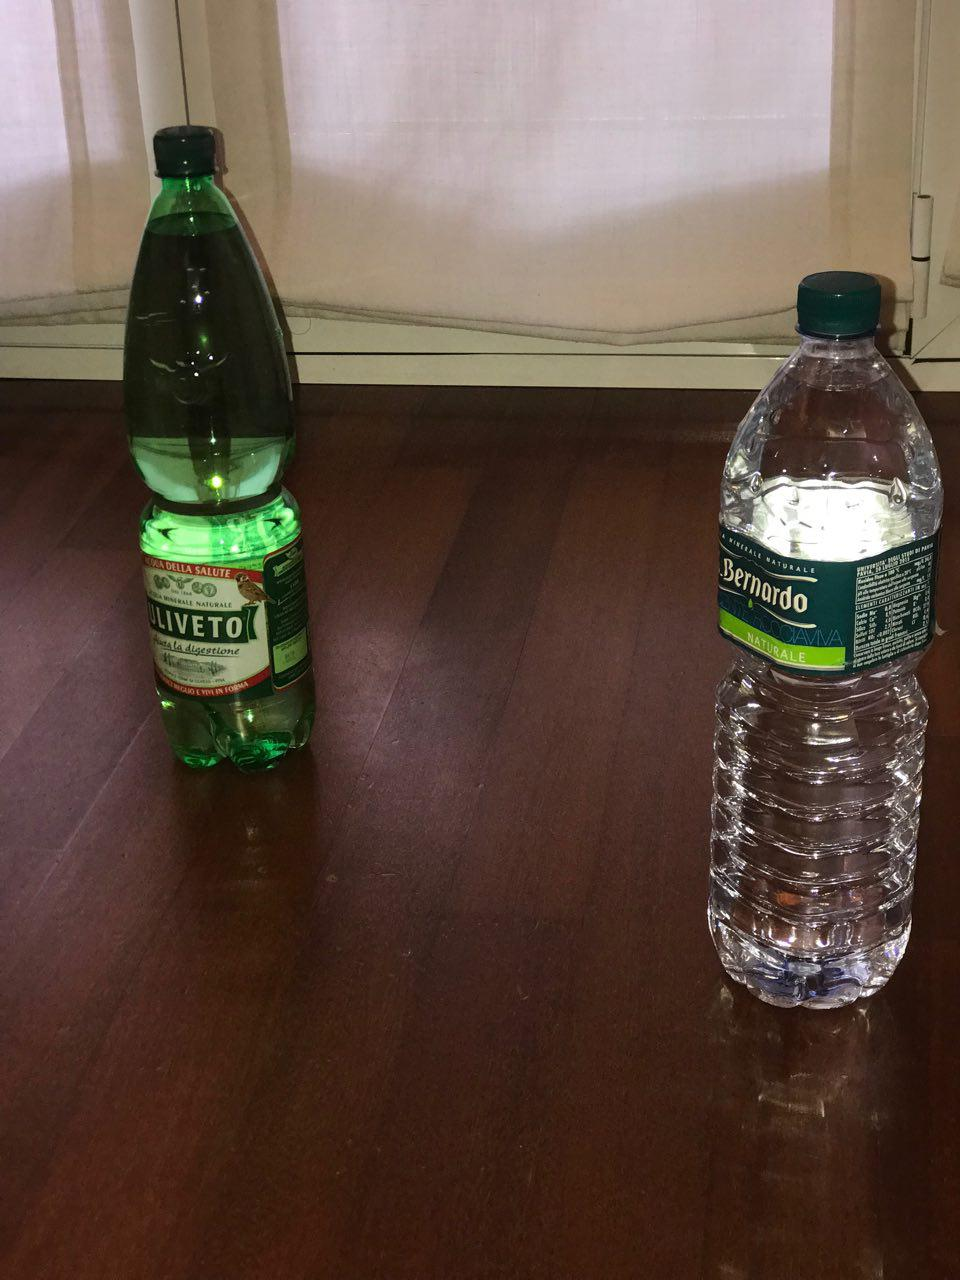san_bernardo: (706, 271, 944, 1010)
